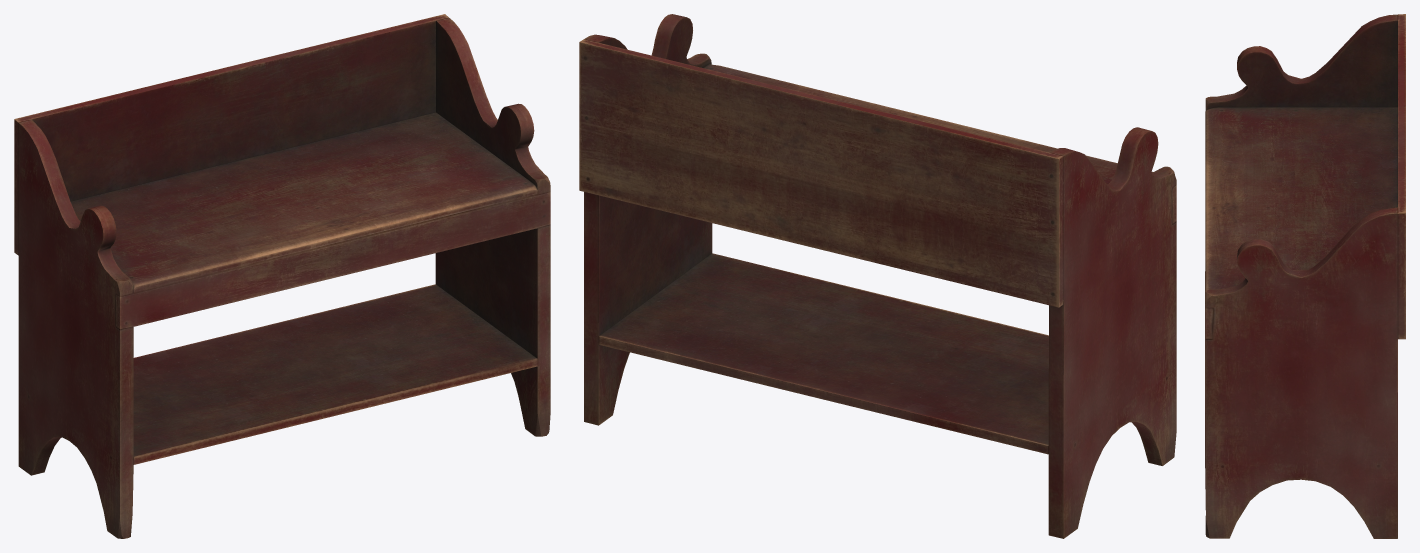
The model's file is painted_wooden_bench_opt.gltf.
3 renders of one model, left to right at view 1: azimuth 30°, elevation 25°; view 2: azimuth 150°, elevation 25°; view 3: azimuth 270°, elevation 25°, orthographic. The views are drawn at different scales.
Visible parts, largest first — view 1: painted_wooden_bench; view 2: painted_wooden_bench; view 3: painted_wooden_bench.
Part boxes in pixels (x1=…): painted_wooden_bench: x1=14, y1=14, x2=550, y2=538; painted_wooden_bench: x1=579, y1=14, x2=1176, y2=538; painted_wooden_bench: x1=1205, y1=14, x2=1405, y2=538.
Bounding box in the file's own units: 1.16 × 0.8893 × 0.4965.
Materials: 1 (1 with a texture image).
